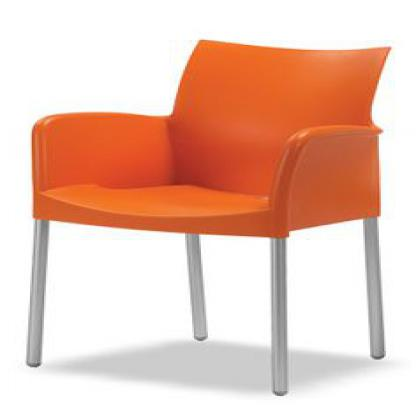chair: (19, 35, 397, 395)
